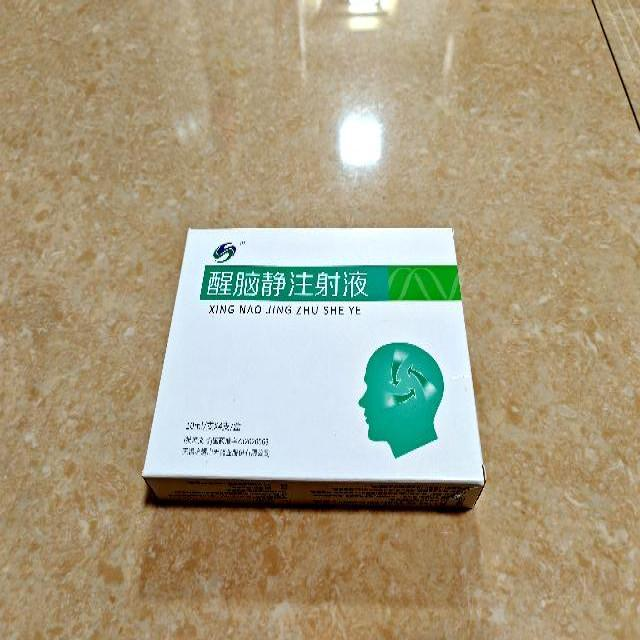box: (138, 226, 486, 505)
